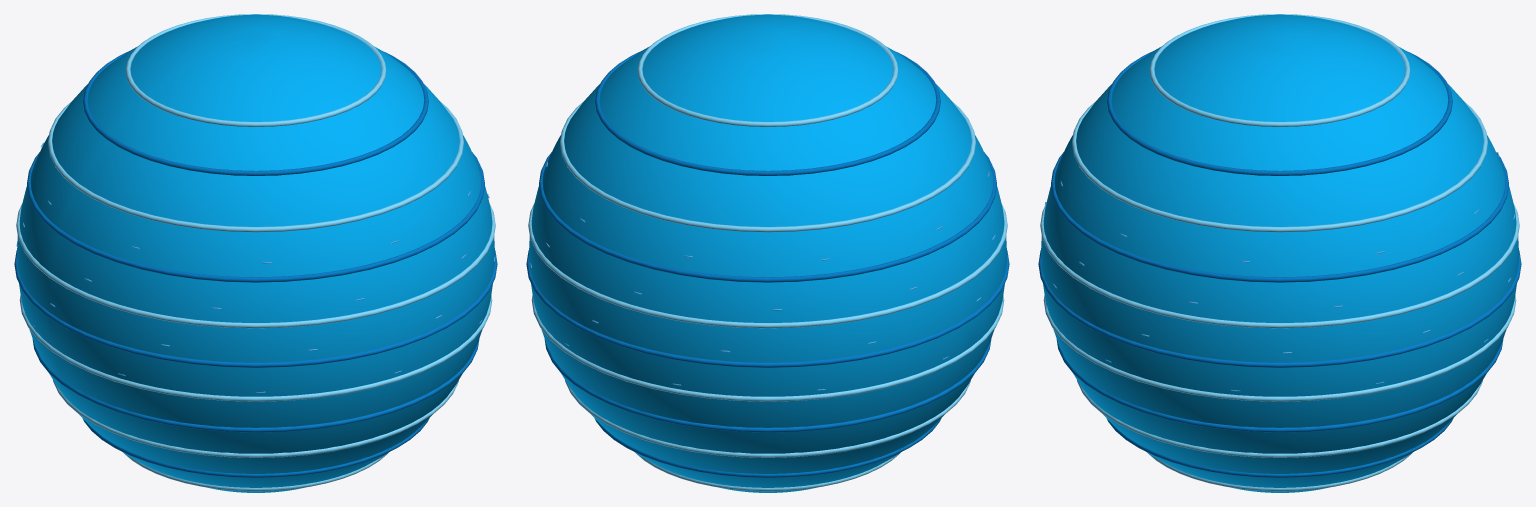
Rendered from Pezziball_3D.glb.
3 views of the same model, side by side, from view 1: azimuth 30°, elevation 25°; view 2: azimuth 150°, elevation 25°; view 3: azimuth 270°, elevation 25° (orthographic).
Visible parts, largest first — view 1: Pezziball_3D__web_bright_blue_pezziball_rubber_body, Pezziball_3D__web_raised_lighter_blue_pezziball_grip_rings, Pezziball_3D__web_darker_blue_pezziball_recessed_grooves; view 2: Pezziball_3D__web_bright_blue_pezziball_rubber_body, Pezziball_3D__web_raised_lighter_blue_pezziball_grip_rings, Pezziball_3D__web_darker_blue_pezziball_recessed_grooves; view 3: Pezziball_3D__web_bright_blue_pezziball_rubber_body, Pezziball_3D__web_raised_lighter_blue_pezziball_grip_rings, Pezziball_3D__web_darker_blue_pezziball_recessed_grooves.
Part boxes in pixels (left/top/right/bottom): Pezziball_3D__web_bright_blue_pezziball_rubber_body: left=17, top=14, right=494, bottom=492; Pezziball_3D__web_raised_lighter_blue_pezziball_grip_rings: left=16, top=14, right=495, bottom=491; Pezziball_3D__web_darker_blue_pezziball_recessed_grooves: left=14, top=51, right=497, bottom=477; Pezziball_3D__web_bright_blue_pezziball_rubber_body: left=529, top=14, right=1006, bottom=492; Pezziball_3D__web_raised_lighter_blue_pezziball_grip_rings: left=528, top=14, right=1007, bottom=491; Pezziball_3D__web_darker_blue_pezziball_recessed_grooves: left=526, top=51, right=1009, bottom=477; Pezziball_3D__web_bright_blue_pezziball_rubber_body: left=1041, top=14, right=1518, bottom=492; Pezziball_3D__web_raised_lighter_blue_pezziball_grip_rings: left=1040, top=14, right=1519, bottom=491; Pezziball_3D__web_darker_blue_pezziball_recessed_grooves: left=1038, top=51, right=1521, bottom=477.
Size of the model in its own units: 0.8486 by 0.84 by 0.8486.
